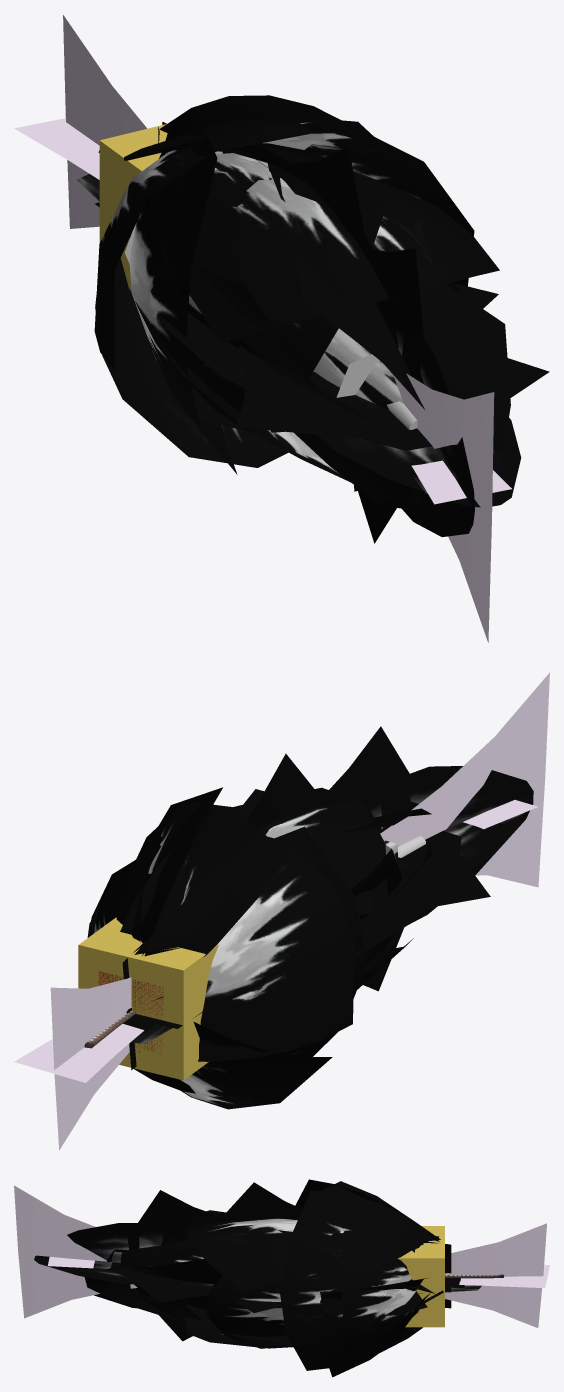
3 renders of one model, top to bottom at view 1: azimuth 30°, elevation 25°; view 2: azimuth 150°, elevation 25°; view 3: azimuth 270°, elevation 25°, orthographic. The views are drawn at different scales.
Parts seen in each view (by area): view 1: object0085_Plane58, object0097_Plane59, object0332_Plane01, object0296_Plane150, "object0167_Editable Poly", "object0134_Editable Poly", object0326_Plane41, object0028_Box, "object0182_Editable Poly", object0210_Plane149, "object0078_Editable Poly"; view 2: object0097_Plane59, object0332_Plane01, object0296_Plane150, object0028_Box, object0085_Plane58, "object0167_Editable Poly", object0326_Plane41, "object0134_Editable Poly", "object0182_Editable Poly", object0210_Plane149, object0335_Box; view 3: object0097_Plane59, object0085_Plane58, object0332_Plane01, object0296_Plane150, object0028_Box, "object0134_Editable Poly", object0326_Plane41, "object0167_Editable Poly", "object0151_Editable Poly", "object0182_Editable Poly".
Boxes of the visible parts, x1,y1,x2,y2 form: object0085_Plane58: (130,127,510,508); object0097_Plane59: (94,95,474,474); object0332_Plane01: (63,15,494,642); object0296_Plane150: (162,122,474,543); "object0167_Editable Poly": (99,205,549,504); "object0134_Editable Poly": (94,202,548,507); object0326_Plane41: (14,118,511,504); object0028_Box: (99,124,167,291); "object0182_Editable Poly": (307,371,432,450); object0210_Plane149: (98,206,493,507); "object0078_Editable Poly": (124,151,379,397); object0097_Plane59: (87,787,366,1109); object0332_Plane01: (50,672,549,1149); object0296_Plane150: (122,726,533,1070); object0028_Box: (78,917,218,1080); object0085_Plane58: (137,787,432,1052); "object0167_Editable Poly": (161,841,489,1028); object0326_Plane41: (14,800,538,1082); "object0134_Editable Poly": (158,795,528,1028); "object0182_Editable Poly": (131,831,460,1031); object0210_Plane149: (180,796,527,1026); object0335_Box: (98,971,163,1053); object0097_Plane59: (279,1179,440,1377); object0085_Plane58: (84,1210,443,1348); object0332_Plane01: (14,1185,546,1327); object0296_Plane150: (67,1182,451,1341); object0028_Box: (398,1226,444,1327); "object0134_Editable Poly": (34,1255,451,1312); object0326_Plane41: (47,1257,549,1288); "object0167_Editable Poly": (34,1259,450,1312); "object0151_Editable Poly": (110,1270,197,1287); "object0182_Editable Poly": (110,1262,464,1287).
Bounding box in the file's own units: 1.79 × 1.93 × 4.86.
